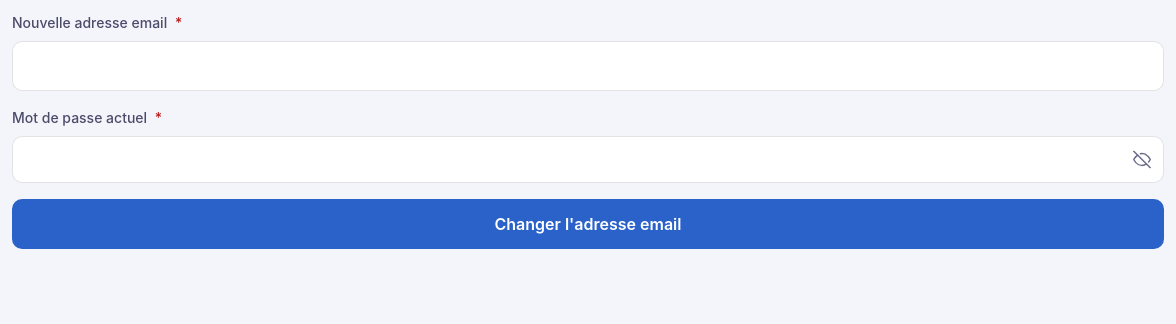
EmailChangeForm › valide avant d'appeler l'API : adresse invalide, identique, mot de passe manquant
In the field with id "email-new": (588, 66) [12,41,1164,91], type "pas-une-adresse"
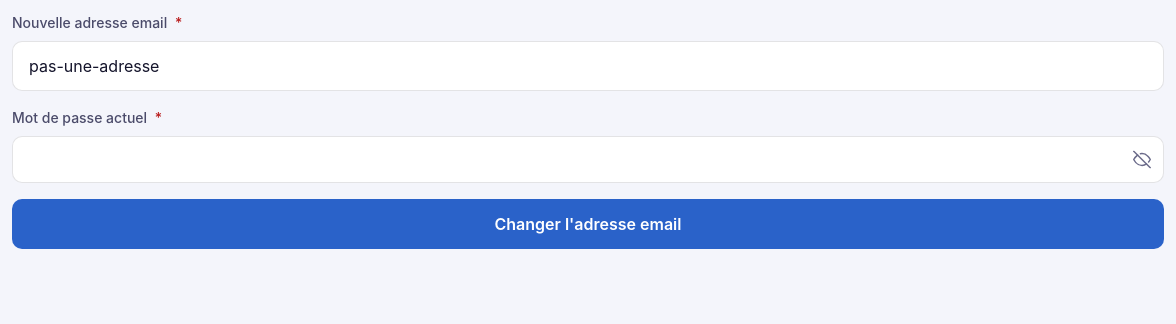
Submit the form
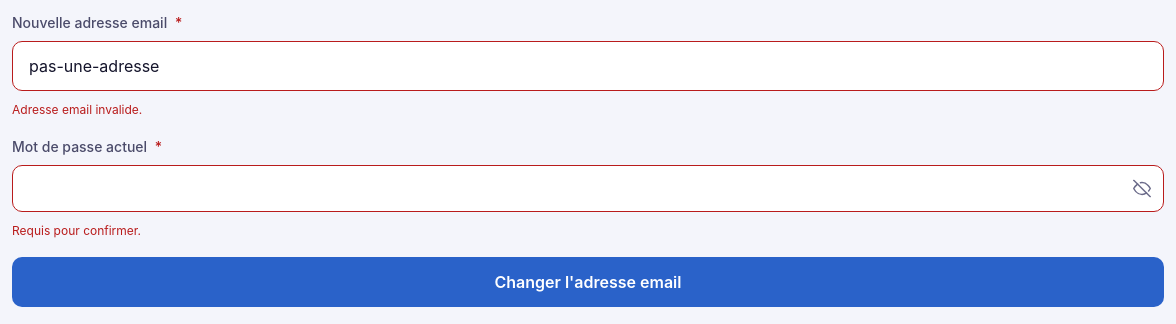
Result: the form shows "Adresse email invalide." at [12,102,142,117]
Result: the form shows "Requis pour confirmer." at [12,223,141,238]
Replace the text in the field with id "email-new" with "ALICE@example.com": (588, 66) [12,41,1164,91]
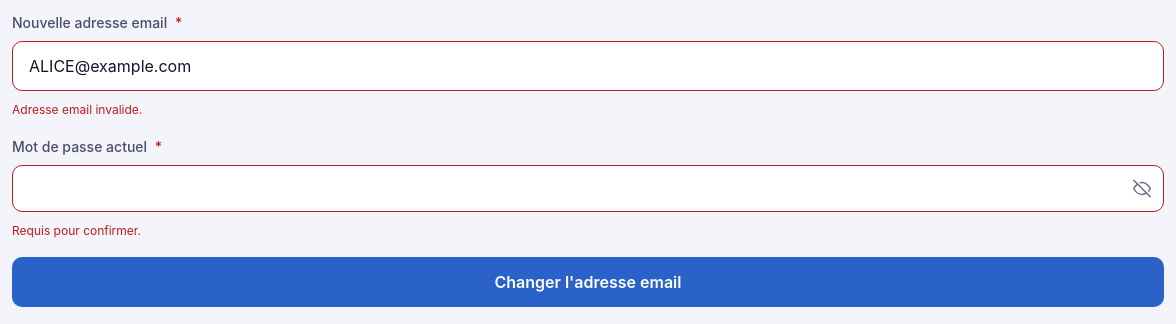
In the password field with id "email-password": (588, 188) [12,165,1164,212], type "secret"
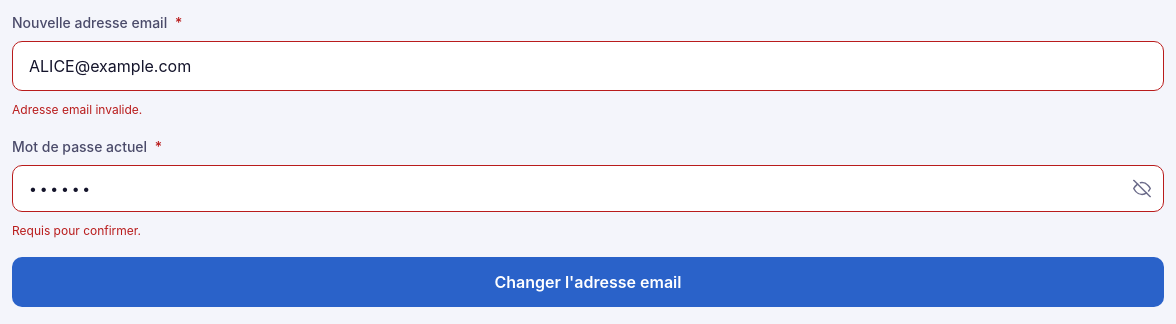
Submit the form
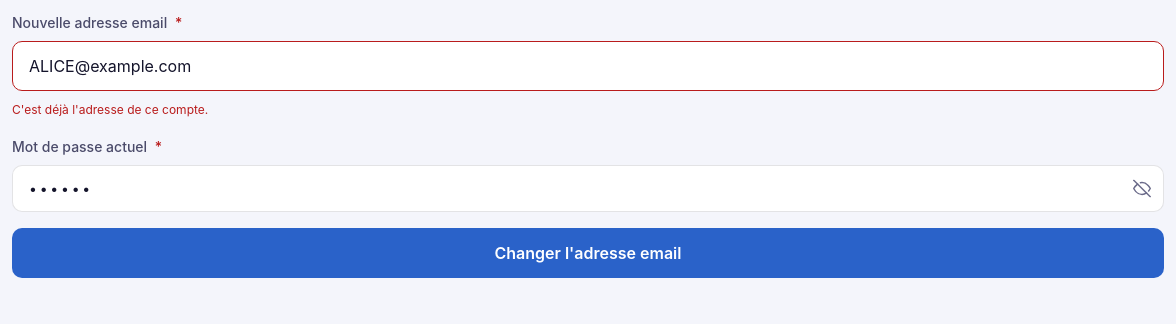
Result: the form shows "C'est déjà l'adresse de ce compte." at [12,102,208,117]
